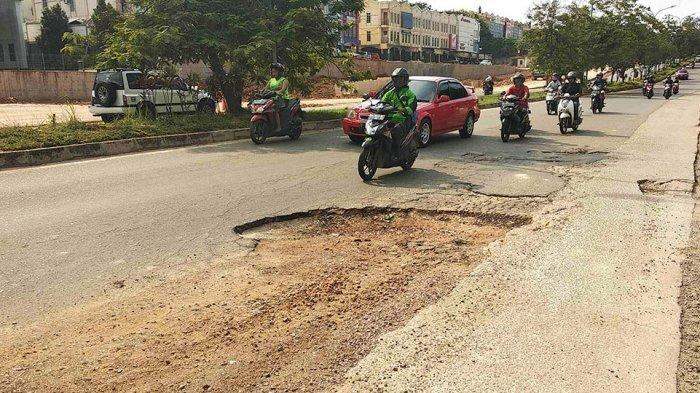Pothole: (233, 195, 535, 250), (440, 145, 603, 171), (627, 168, 700, 197)
